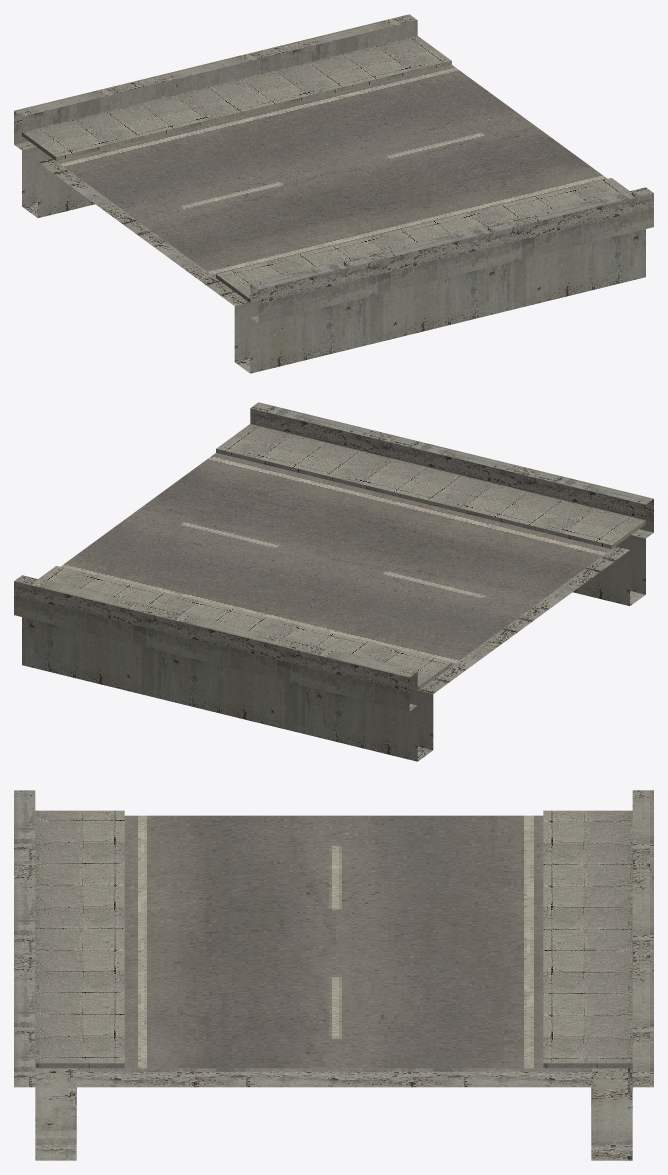
The model's file is road_4_bridge_segment.glb.
3 renders of one model, top to bottom at view 1: azimuth 30°, elevation 25°; view 2: azimuth 150°, elevation 25°; view 3: azimuth 270°, elevation 25°, orthographic. The views are drawn at different scales.
Parts seen in each view (by area): view 1: road_4_bridge_segment; view 2: road_4_bridge_segment; view 3: road_4_bridge_segment.
Part boxes in pixels (<box>): road_4_bridge_segment: <box>14,14,653,373</box>; road_4_bridge_segment: <box>14,402,653,761</box>; road_4_bridge_segment: <box>14,790,653,1160</box>.
Bounding box in the file's own units: 16 × 3.48 × 17.13.
Materials: 3 (3 with a texture image).
